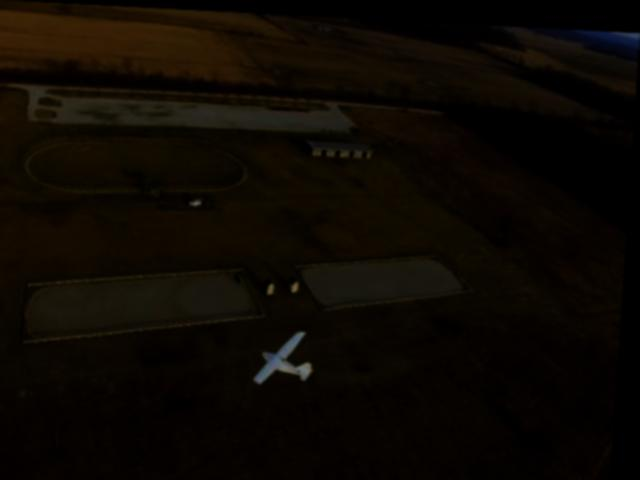uav: (250, 318, 327, 393)
